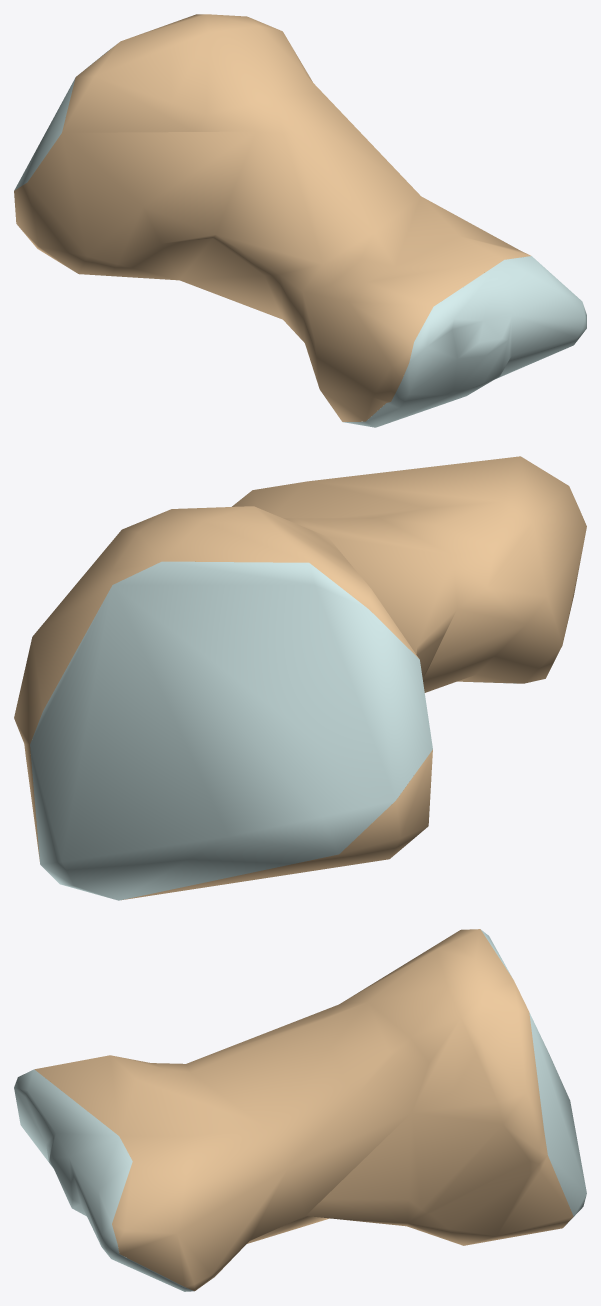
Rendered from Middle_phalanx_of_2d_finger_of_foot.l_Generated_Mesh_From_X3D.7.glb.
3 renders of one model, top to bottom at view 1: azimuth 30°, elevation 25°; view 2: azimuth 150°, elevation 25°; view 3: azimuth 270°, elevation 25°, orthographic. The views are drawn at different scales.
Visible parts, largest first — view 1: Middle_phalanx_of_2d_finger_of_foot.l_Generated_Mesh_From_X3; view 2: Middle_phalanx_of_2d_finger_of_foot.l_Generated_Mesh_From_X3; view 3: Middle_phalanx_of_2d_finger_of_foot.l_Generated_Mesh_From_X3.
Part boxes in pixels (x1,y1,x2,y2): Middle_phalanx_of_2d_finger_of_foot.l_Generated_Mesh_From_X3: [14, 14, 586, 427]; Middle_phalanx_of_2d_finger_of_foot.l_Generated_Mesh_From_X3: [14, 456, 586, 900]; Middle_phalanx_of_2d_finger_of_foot.l_Generated_Mesh_From_X3: [14, 929, 586, 1291].
Bounding box in the file's own units: 0.0123 × 0.00908 × 0.0176.
